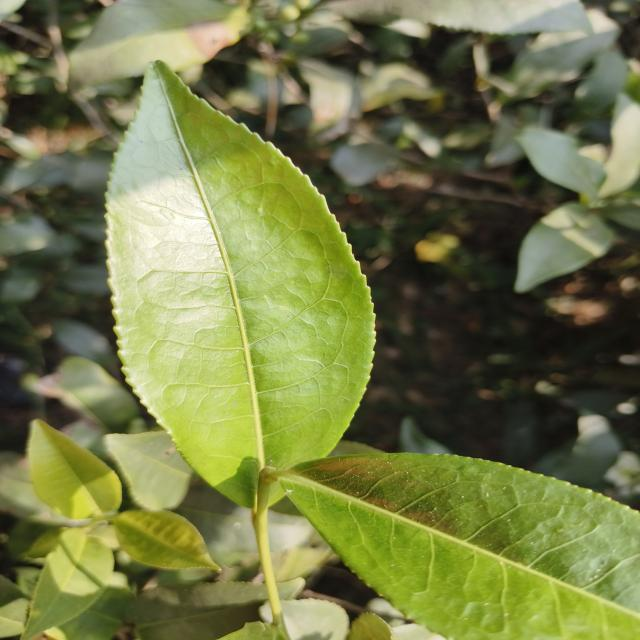Leaf: (107, 62, 374, 507), (276, 453, 640, 640), (69, 0, 248, 85), (34, 357, 140, 457), (22, 528, 114, 640), (27, 420, 122, 519), (326, 0, 591, 34), (514, 203, 614, 292), (128, 582, 267, 640), (103, 430, 192, 510), (113, 510, 220, 570), (516, 127, 604, 199), (599, 93, 640, 198), (51, 319, 120, 373), (330, 143, 396, 186), (279, 578, 304, 600)
